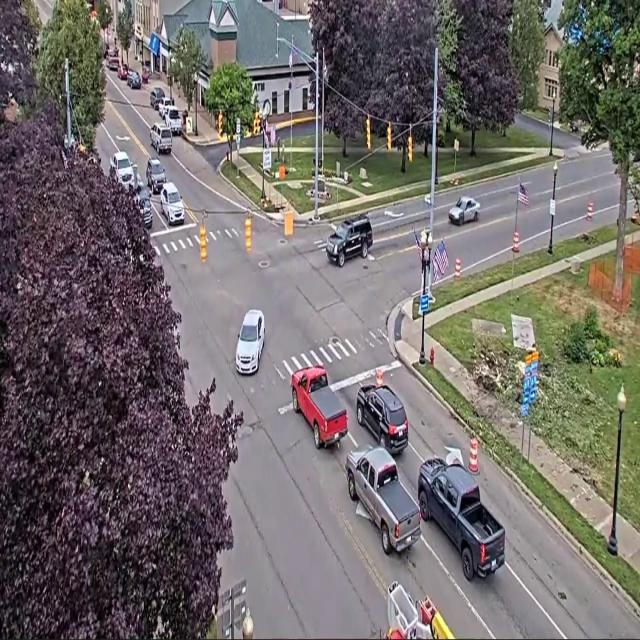car: (356, 384, 408, 454), (326, 215, 372, 267), (236, 310, 265, 374), (161, 183, 184, 225), (449, 197, 479, 225), (110, 152, 134, 186), (136, 182, 152, 229), (146, 158, 165, 193), (150, 123, 172, 153), (165, 106, 181, 135), (149, 86, 165, 110), (157, 96, 173, 119), (127, 71, 141, 88), (107, 53, 119, 71), (141, 66, 151, 84), (118, 64, 128, 79), (424, 193, 431, 206)
traffic signal: (200, 224, 207, 262), (245, 216, 251, 252), (386, 123, 392, 151), (253, 112, 260, 135), (366, 117, 370, 150), (408, 134, 412, 162), (547, 107, 553, 125), (218, 112, 222, 135)
truck: (418, 457, 505, 581), (346, 446, 420, 555), (291, 367, 347, 448), (383, 582, 454, 639)
